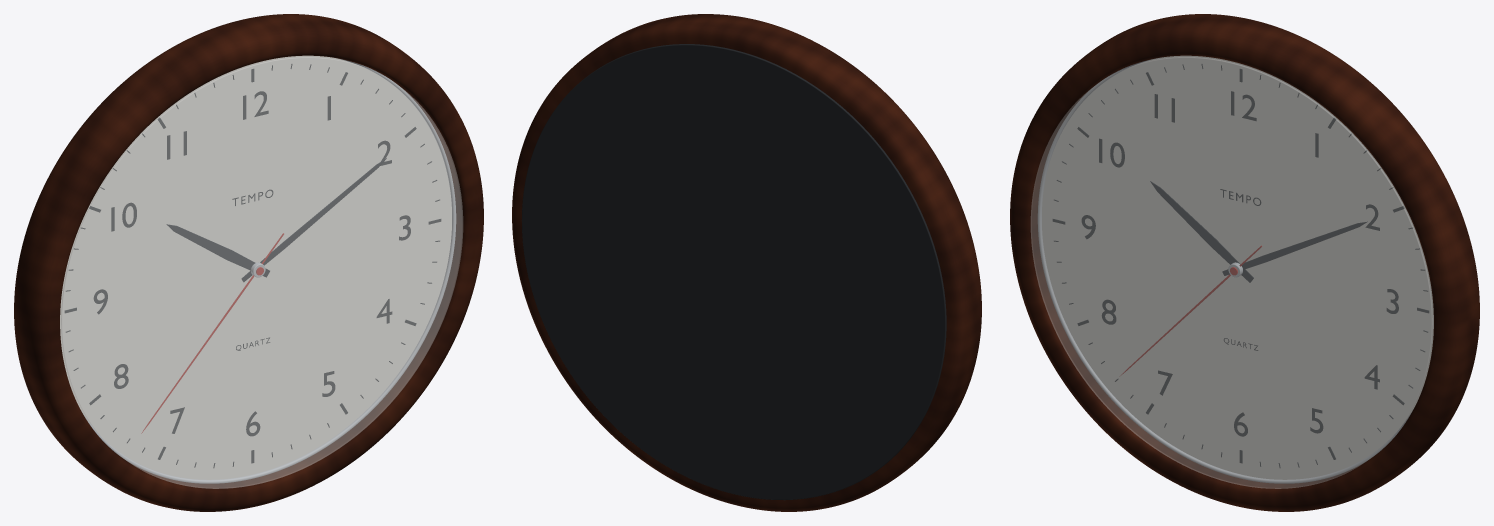
File: relogio.glb
3 renders of one model, left to right at view 1: azimuth 30°, elevation 25°; view 2: azimuth 150°, elevation 25°; view 3: azimuth 330°, elevation 25°, orthographic.
Parts seen in each view (by area): view 1: Vidro de protecao, Mostrador, Aro de madeira torneada, Filete metalico interno, Ponteiro minutos - pivo central, Ponteiro horas - pivo central; view 2: Tampa traseira, Aro de madeira torneada; view 3: Vidro de protecao, Mostrador, Aro de madeira torneada, Filete metalico interno, Ponteiro horas - pivo central, Ponteiro minutos - pivo central.
Part boxes in pixels (x1,y1,x2,y2): Vidro de protecao: (61, 57, 462, 488); Mostrador: (60, 55, 451, 479); Aro de madeira torneada: (14, 14, 483, 511); Filete metalico interno: (80, 58, 456, 483); Ponteiro minutos - pivo central: (241, 158, 386, 281); Ponteiro horas - pivo central: (166, 224, 269, 277); Tampa traseira: (521, 44, 946, 500); Aro de madeira torneada: (512, 14, 981, 511); Vidro de protecao: (1031, 57, 1432, 488); Mostrador: (1042, 55, 1433, 479); Aro de madeira torneada: (1010, 14, 1479, 511); Filete metalico interno: (1037, 58, 1413, 483); Ponteiro horas - pivo central: (1150, 181, 1253, 282); Ponteiro minutos - pivo central: (1222, 221, 1367, 275).
Size of the model in its own units: 0.3637 by 0.3637 by 0.0394.
Materials: 8 (1 with a texture image).
